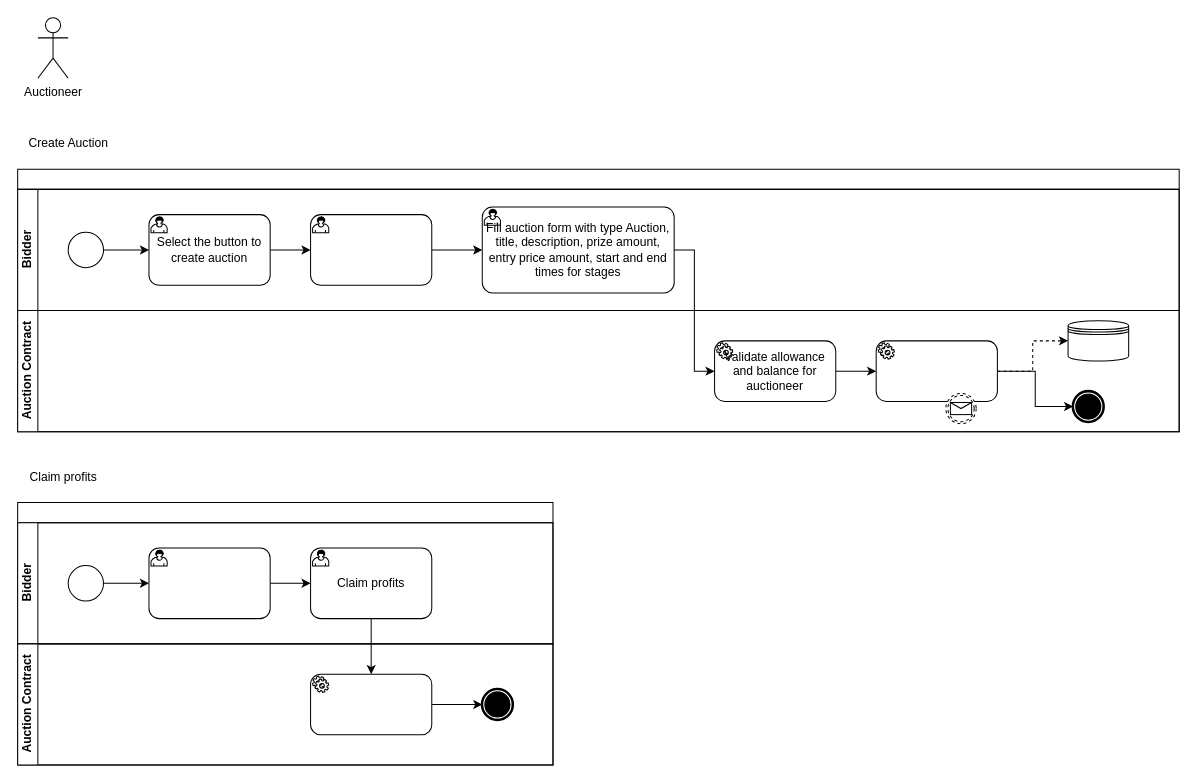
Image size: 1197x783. Some labels were removed from this diagram. The shapes that lost their labels are listed below. From the top down, each one's centre as x and y in pixels, then its label:
At (371,249): "Check allowance greater than the auction prize".
At (1098,340): "Auctions mapping".
At (936,370): "Create Auction object".
At (209,583): "Select auction to claim where is owner".
At (371,704): "Validate if is auctioneer and transfer".
